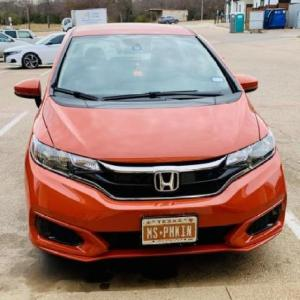Plate: (140, 213, 198, 246)
